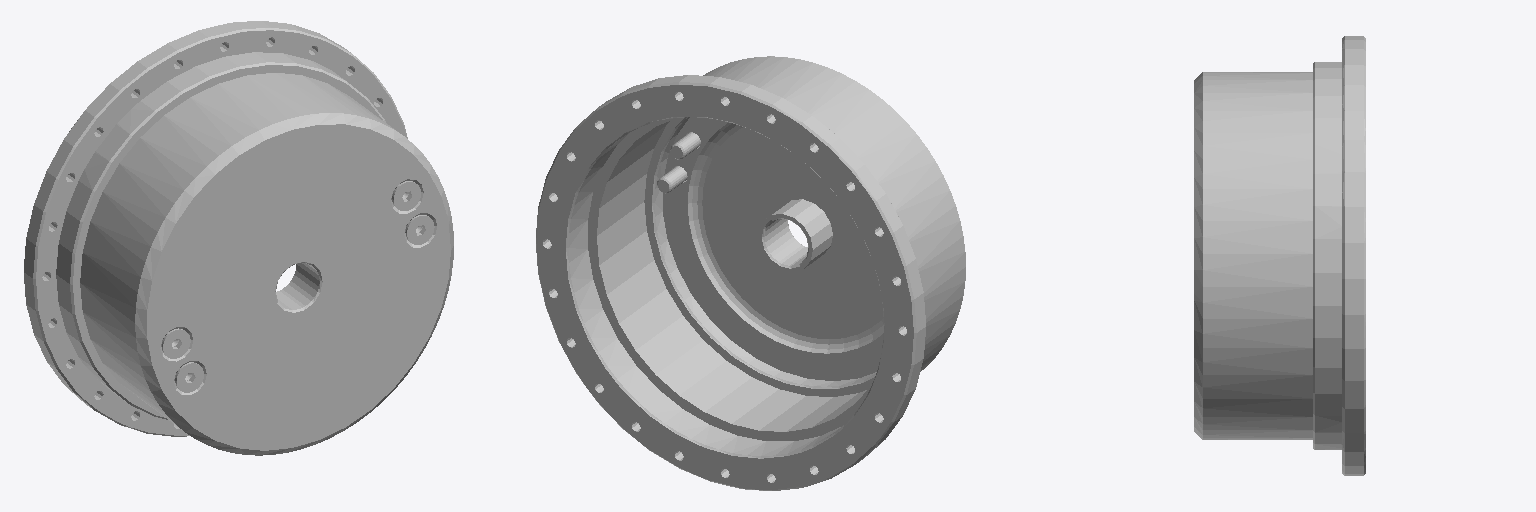
3 renders of one model, left to right at view 1: azimuth 30°, elevation 25°; view 2: azimuth 150°, elevation 25°; view 3: azimuth 270°, elevation 25°, orthographic.
Parts seen in each view (by area): view 1: link2; view 2: link2; view 3: link2.
Part boxes in pixels (bbox=[...]): link2: bbox=[24, 21, 453, 455]; link2: bbox=[536, 56, 965, 490]; link2: bbox=[1194, 36, 1365, 475].
Bounding box in the file's own units: 0.104 × 0.1036 × 0.0405.